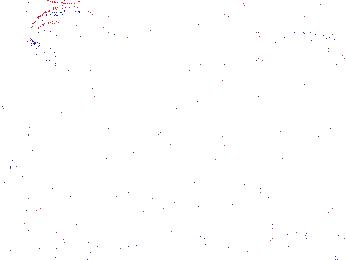moon jellyfish: (2, 91, 95, 183), (253, 32, 345, 98), (29, 5, 111, 79), (194, 12, 271, 73), (95, 10, 178, 41)
